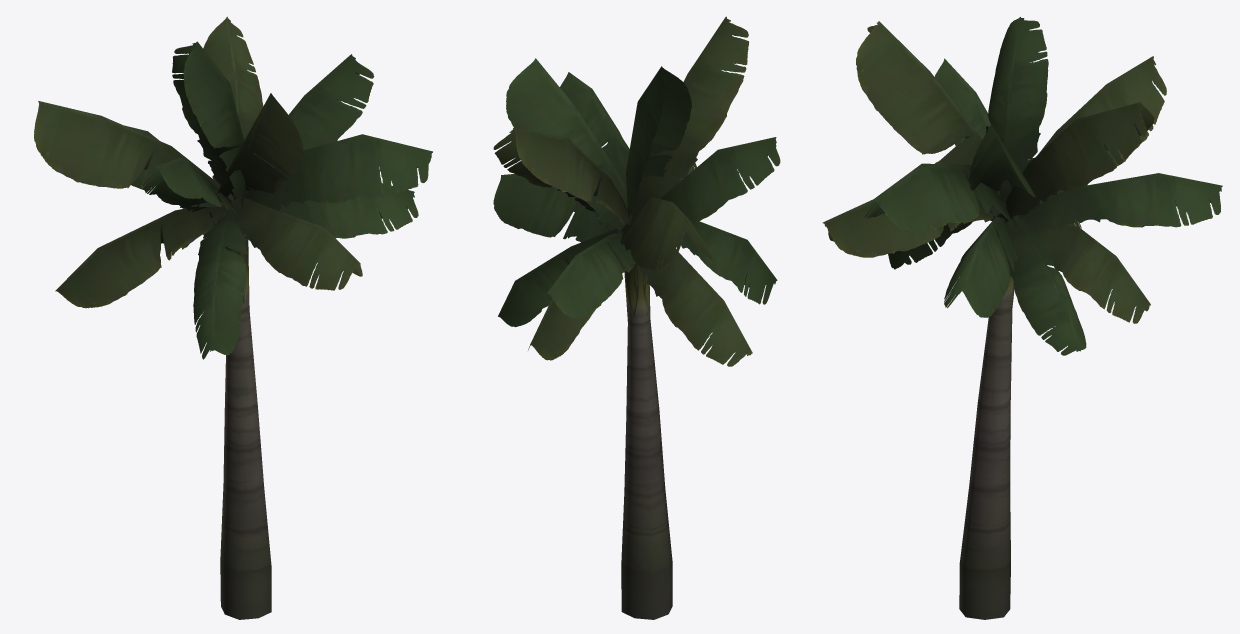
3 views of the same model, side by side, from view 1: azimuth 30°, elevation 25°; view 2: azimuth 150°, elevation 25°; view 3: azimuth 270°, elevation 25° (orthographic). The views are drawn at different scales.
Visible parts, largest first — view 1: body0_model0_lod0_mesh0; view 2: body0_model0_lod0_mesh0; view 3: body0_model0_lod0_mesh0.
Boxes of the visible parts, box(x1,y1,x2,y2) form: body0_model0_lod0_mesh0: box(34, 16, 432, 619); body0_model0_lod0_mesh0: box(493, 16, 780, 619); body0_model0_lod0_mesh0: box(822, 17, 1222, 619).
Size of the model in its own units: 336 by 554 by 351.
Materials: 1 (1 with a texture image).
